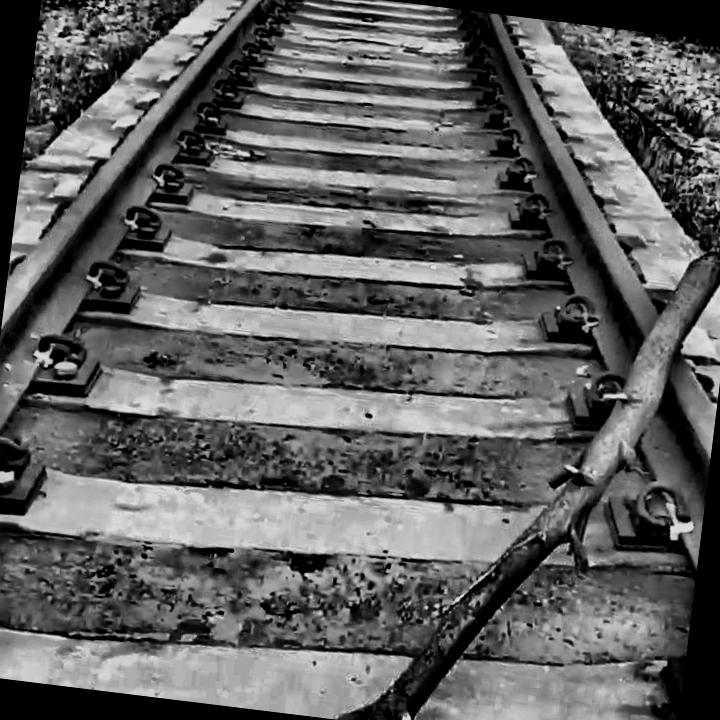Trash: (332, 209, 720, 720)
